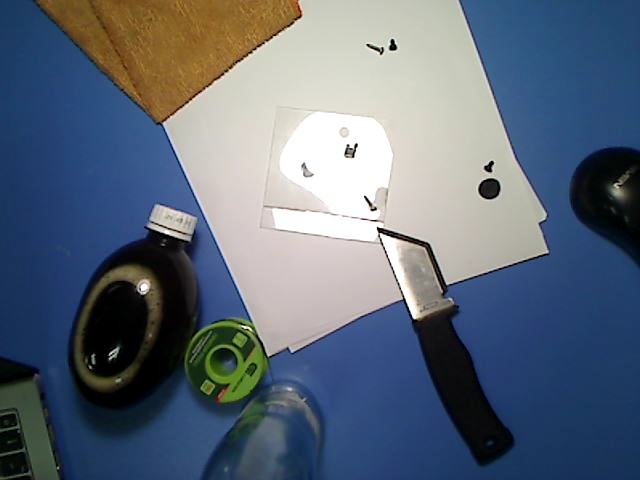plast_bottle: (63, 199, 214, 415)
